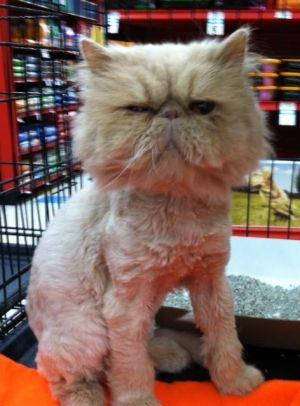persian: (65, 21, 272, 208)
